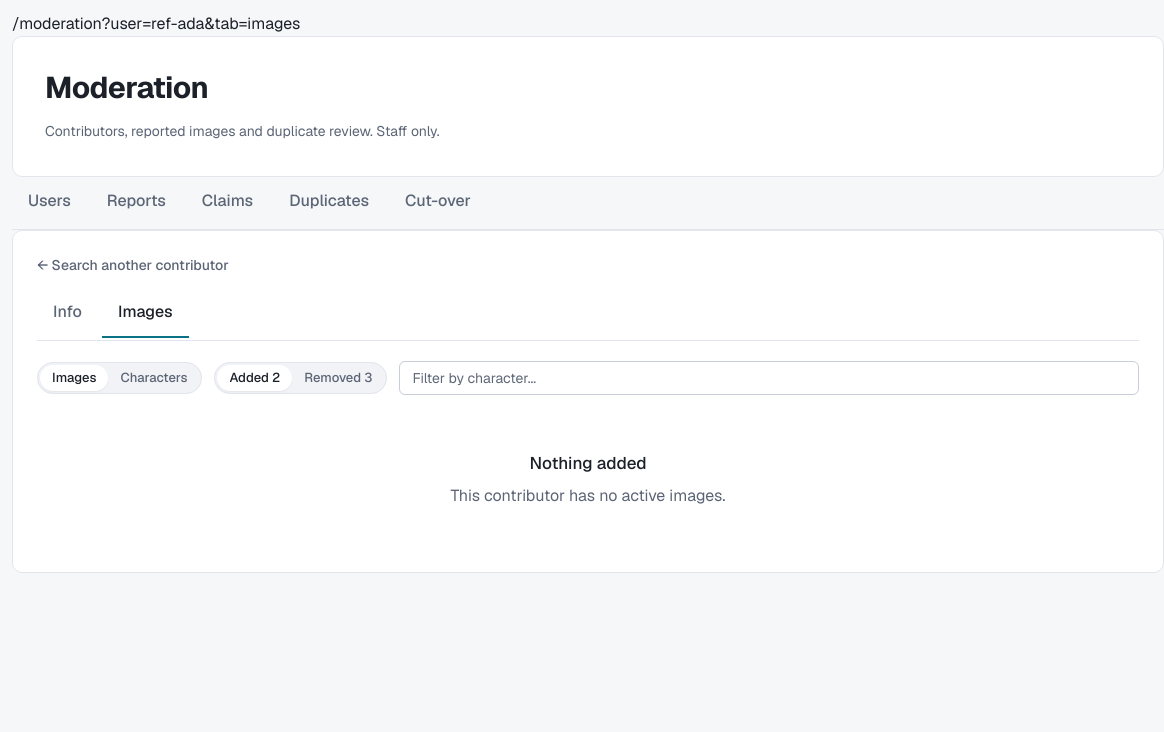
Test: the URL is the source of truth › asks the server for removals rather than filtering in the browser
Click the radio button labelled "Removed 3": [338, 382] box [303,369,372,395]
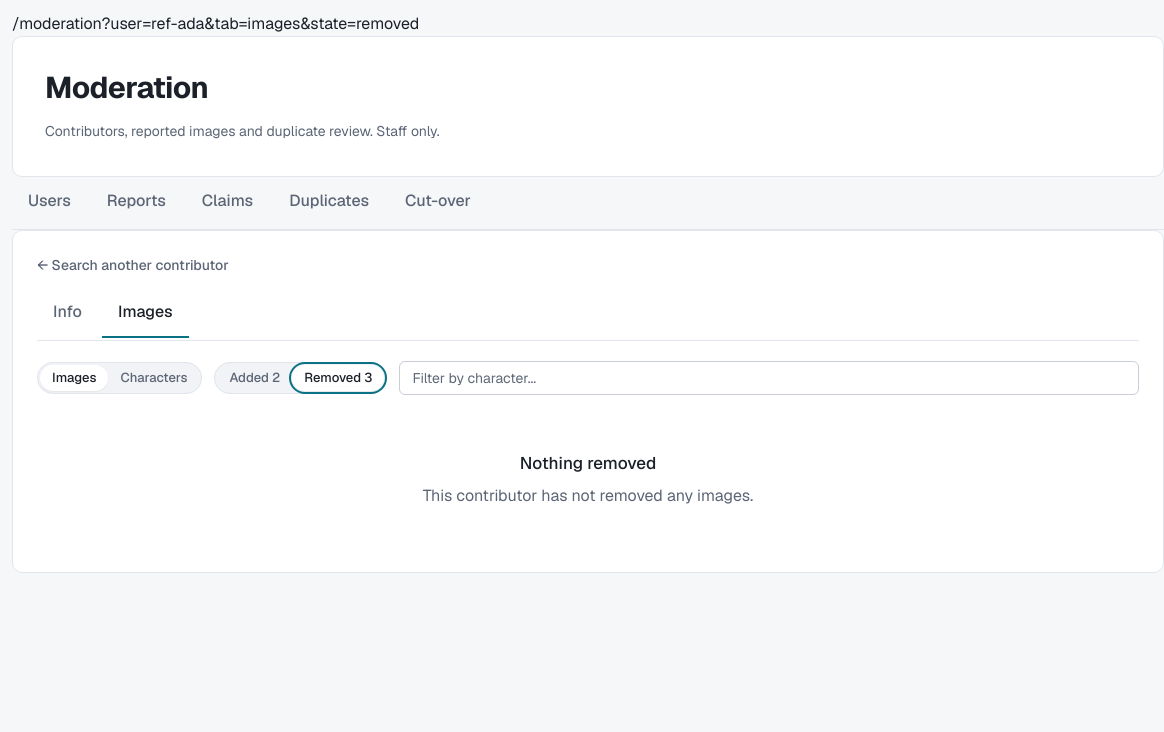
Expected: the text with test id "location" shows "state=removed", [12,13,419,34]
